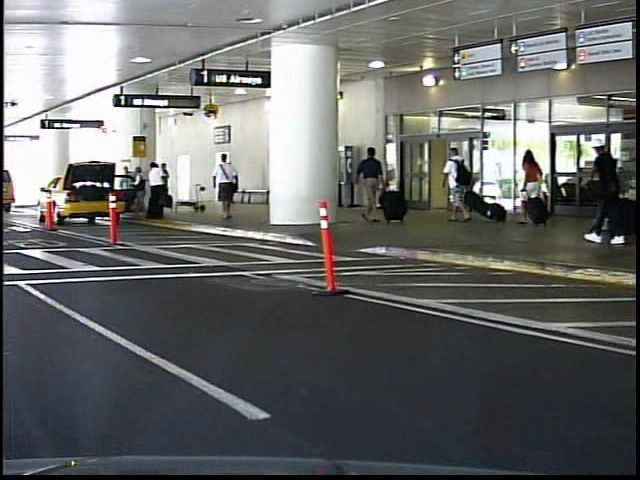person: (579, 136, 627, 248), (437, 142, 474, 227), (511, 144, 546, 230), (353, 142, 385, 226), (210, 148, 241, 221), (202, 163, 226, 210)
